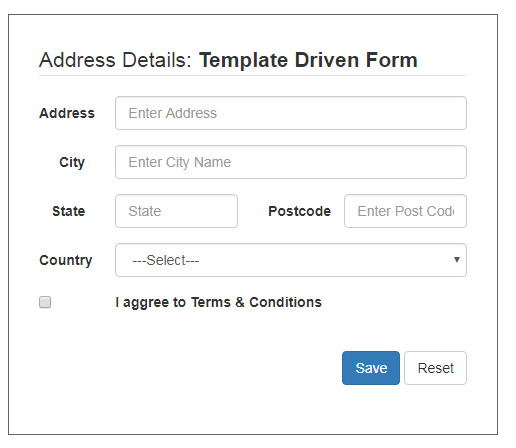_form_: (25, 5, 485, 405)
button: (402, 350, 469, 387), (341, 349, 401, 386)
field: (113, 94, 469, 131), (114, 144, 470, 181), (113, 193, 239, 230), (342, 194, 467, 229)
field_with_label: (39, 240, 472, 281), (39, 92, 471, 133), (58, 142, 473, 182), (266, 192, 470, 231), (53, 191, 242, 231)
radio: (38, 294, 53, 309)
select: (114, 242, 469, 279)
